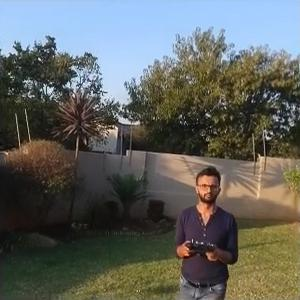follow: (164, 161, 242, 298)
